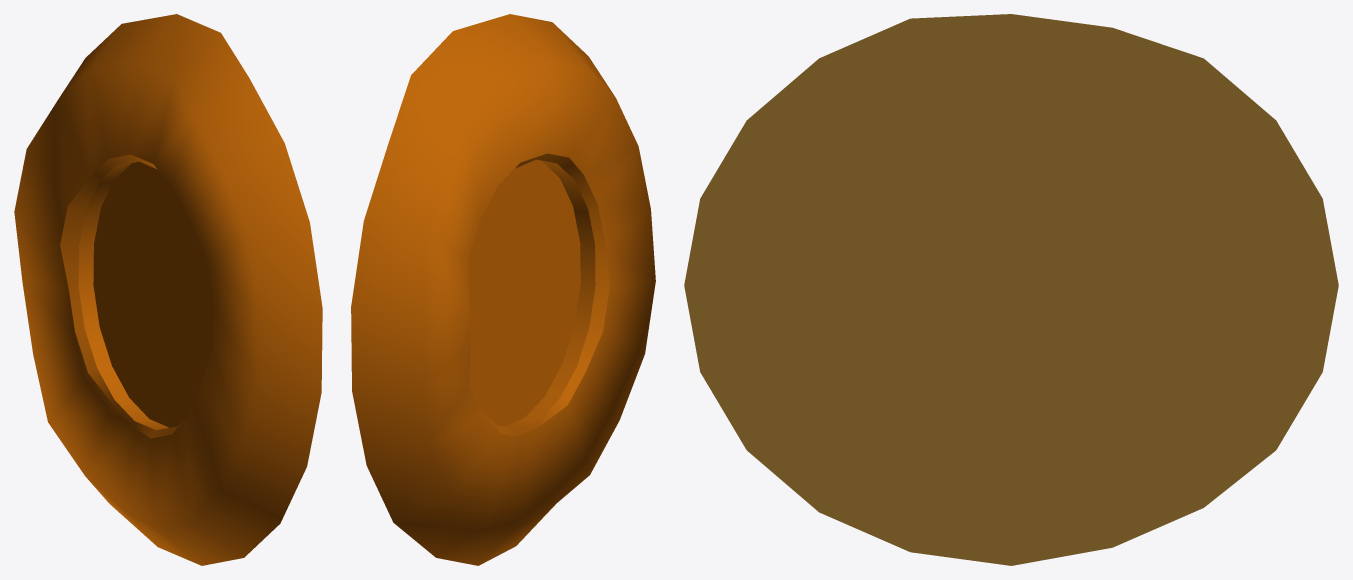
Rendered from mesh_Carrot_Stage12.fbx.
3 renders of one model, left to right at view 1: azimuth 30°, elevation 25°; view 2: azimuth 150°, elevation 25°; view 3: azimuth 270°, elevation 25°, orthographic. The views are drawn at different scales.
Parts seen in each view (by area): view 1: mesh_Carrot_Stage12; view 2: mesh_Carrot_Stage12; view 3: mesh_Carrot_Stage12.
Boxes of the visible parts, x1,y1,x2,y2 form: mesh_Carrot_Stage12: [14, 14, 322, 565]; mesh_Carrot_Stage12: [351, 14, 655, 565]; mesh_Carrot_Stage12: [684, 14, 1338, 565].
Size of the model in its own units: 0.00983 by 0.0451 by 0.0454.
